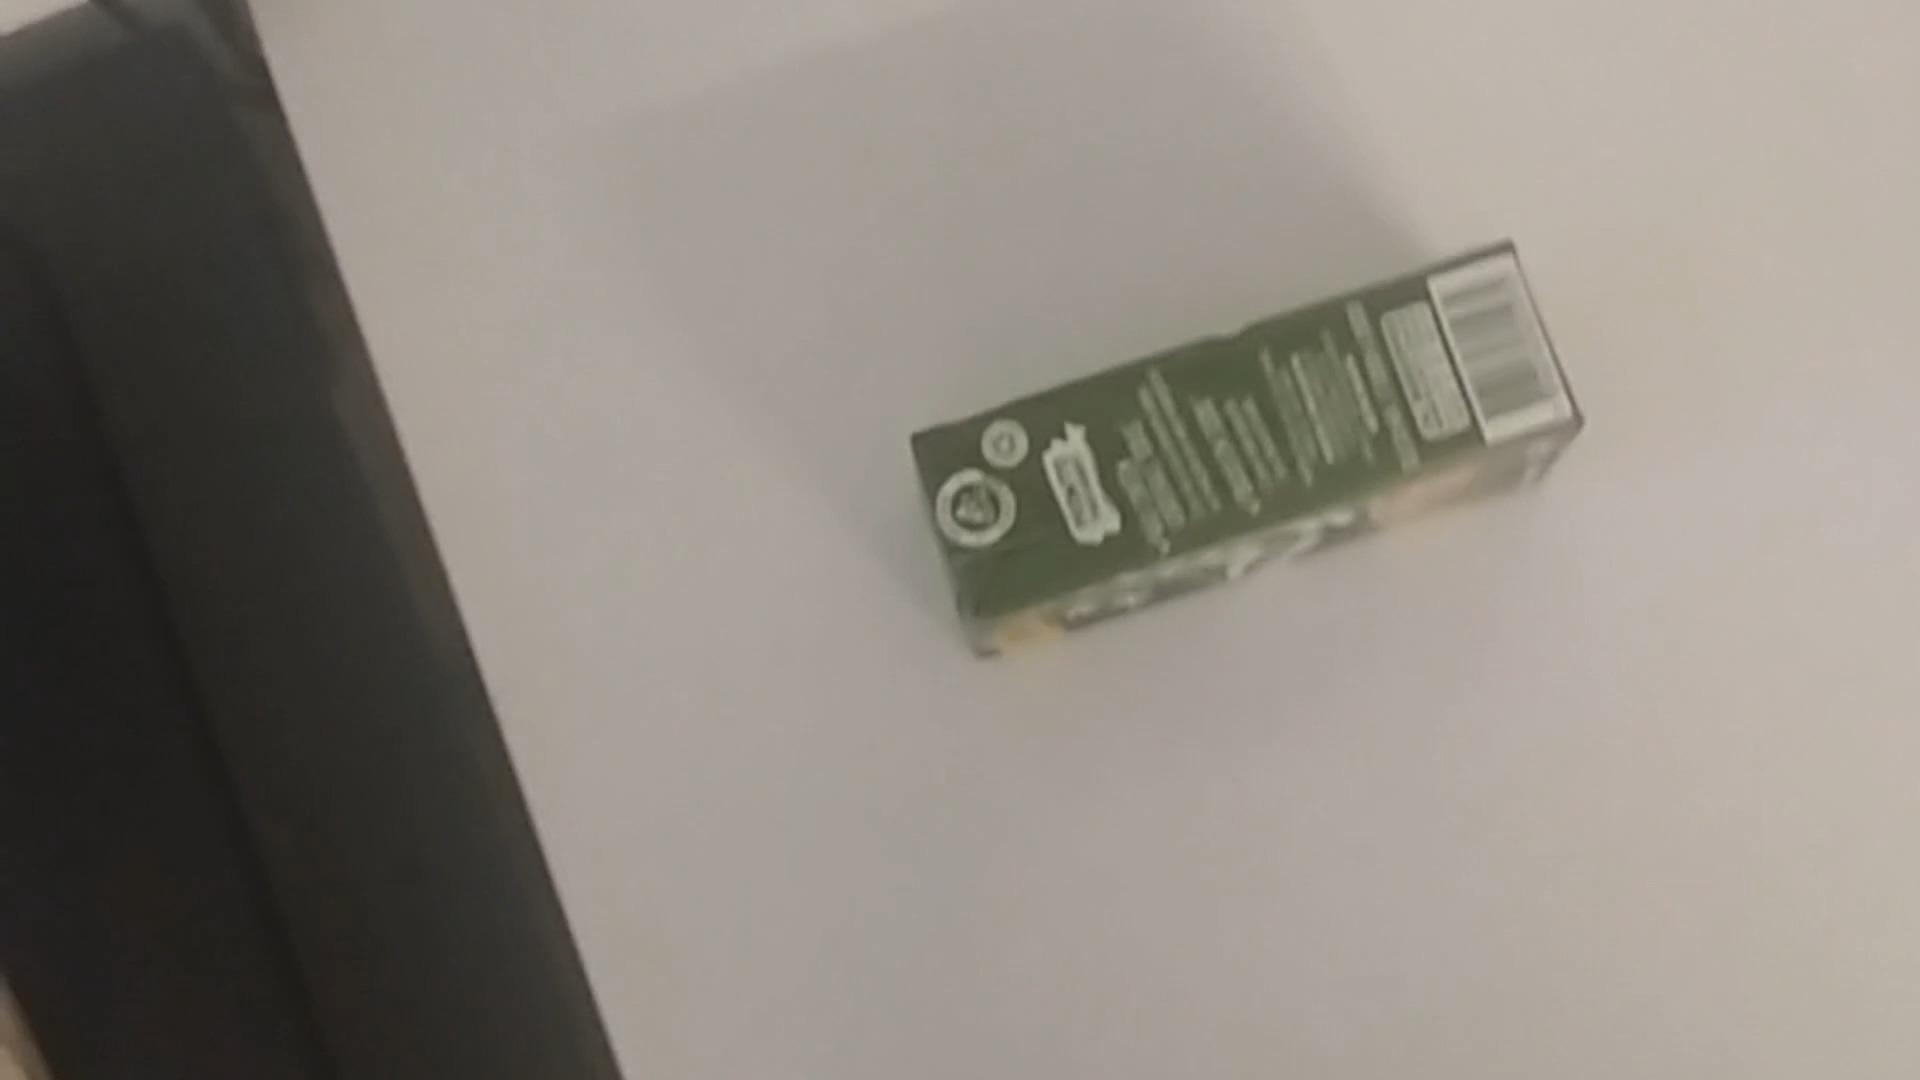coco: (899, 228, 1593, 667)
